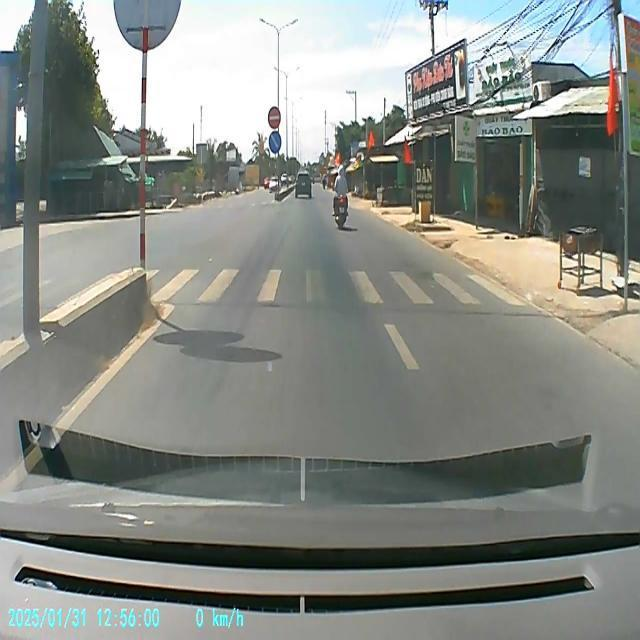102-cam-di-nguoc-chieu: (268, 105, 282, 131)
302a-huong-phai-di-vong-chuong-ngai-vat-1: (268, 132, 282, 154)
